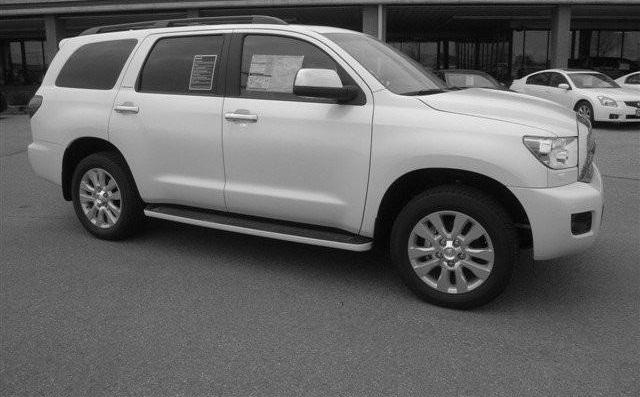car: (26, 15, 607, 309)
